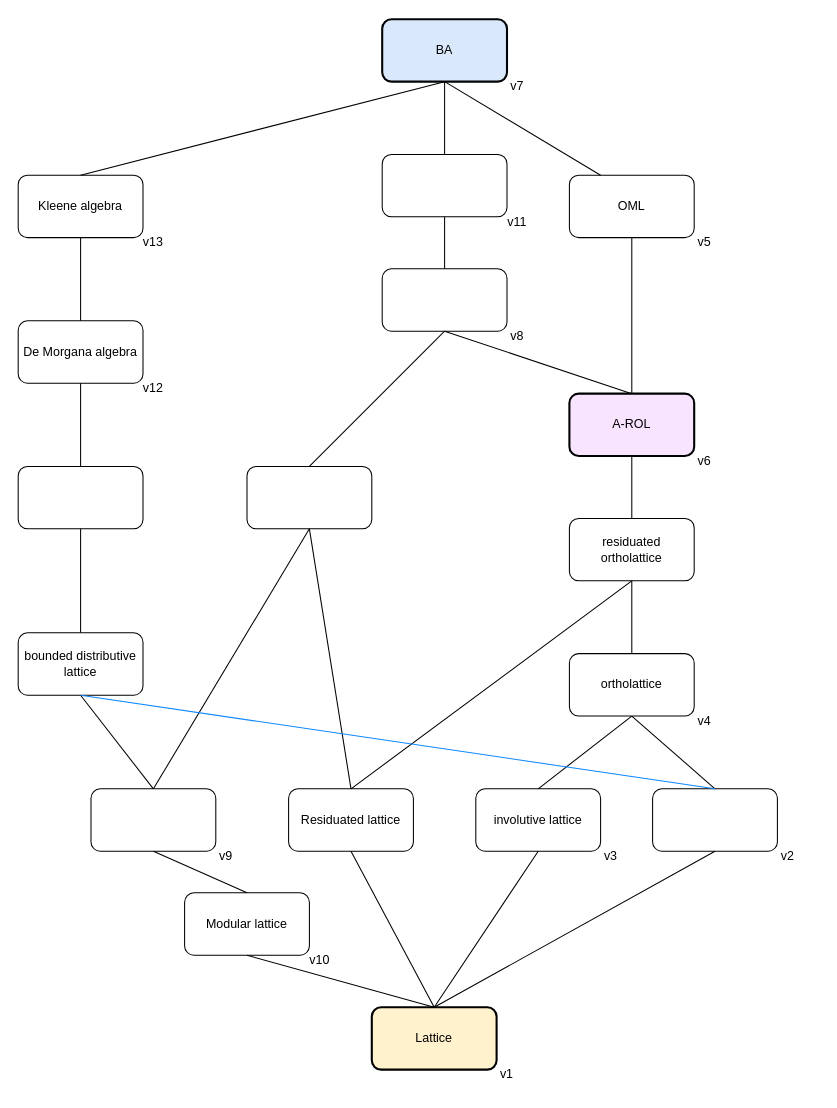
This 837x1108 diagram has some shape labels left out. The shapes that lost their labels are listed below. From the top down, each one's centre as x and y in pixels, then its label:
At (444,185): "Godel algebra".
At (444,299): "HA".
At (80,497): "Ockham algebra".
At (309,497): "Brouwerian algebras".
At (153,819): "Distributive lattice".
At (714,819): "bounded lattice".
